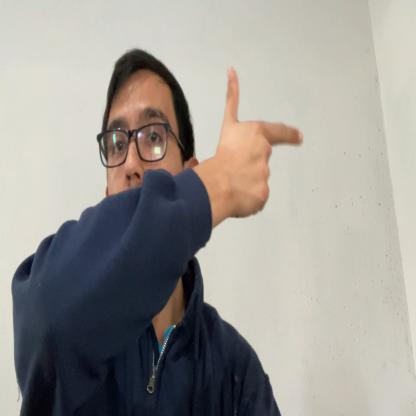G: (220, 66, 304, 218)
